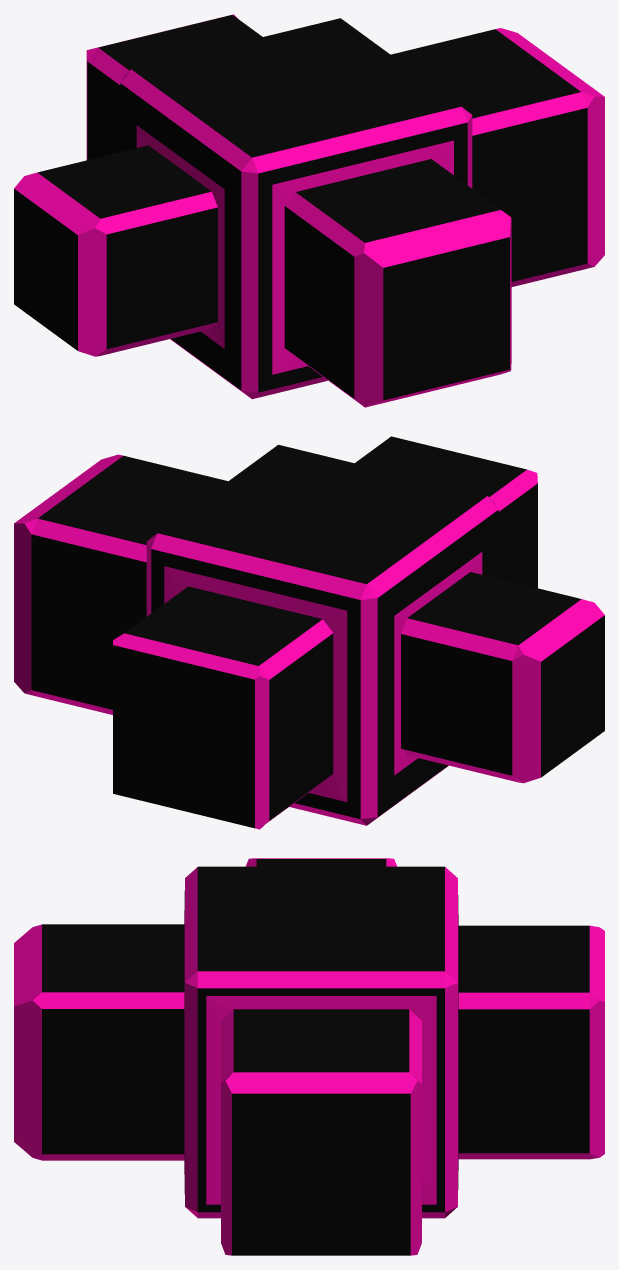
File: decor1.FBX
3 views of the same model, one above another, from view 1: azimuth 30°, elevation 25°; view 2: azimuth 150°, elevation 25°; view 3: azimuth 270°, elevation 25° (orthographic). The views are drawn at different scales.
Visible parts, largest first — view 1: Decoration1; view 2: Decoration1; view 3: Decoration1.
Boxes of the visible parts, x1,y1,x2,y2 form: Decoration1: [14, 14, 604, 407]; Decoration1: [14, 436, 604, 829]; Decoration1: [14, 858, 604, 1255].
Size of the model in its own units: 135 by 60.35 by 131.
